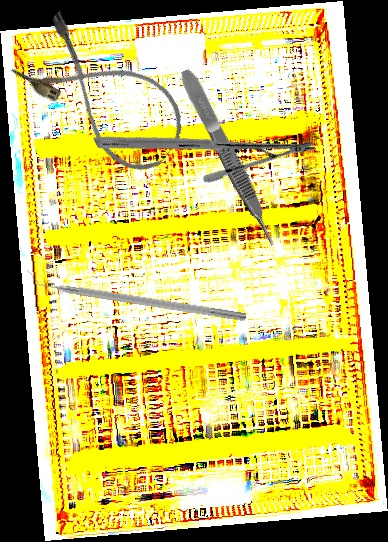Cannula: (7, 5, 200, 185)
Chopper: (24, 266, 249, 322)
Needle Holder: (92, 47, 318, 242)
Tissue Forceps: (176, 65, 281, 251)
